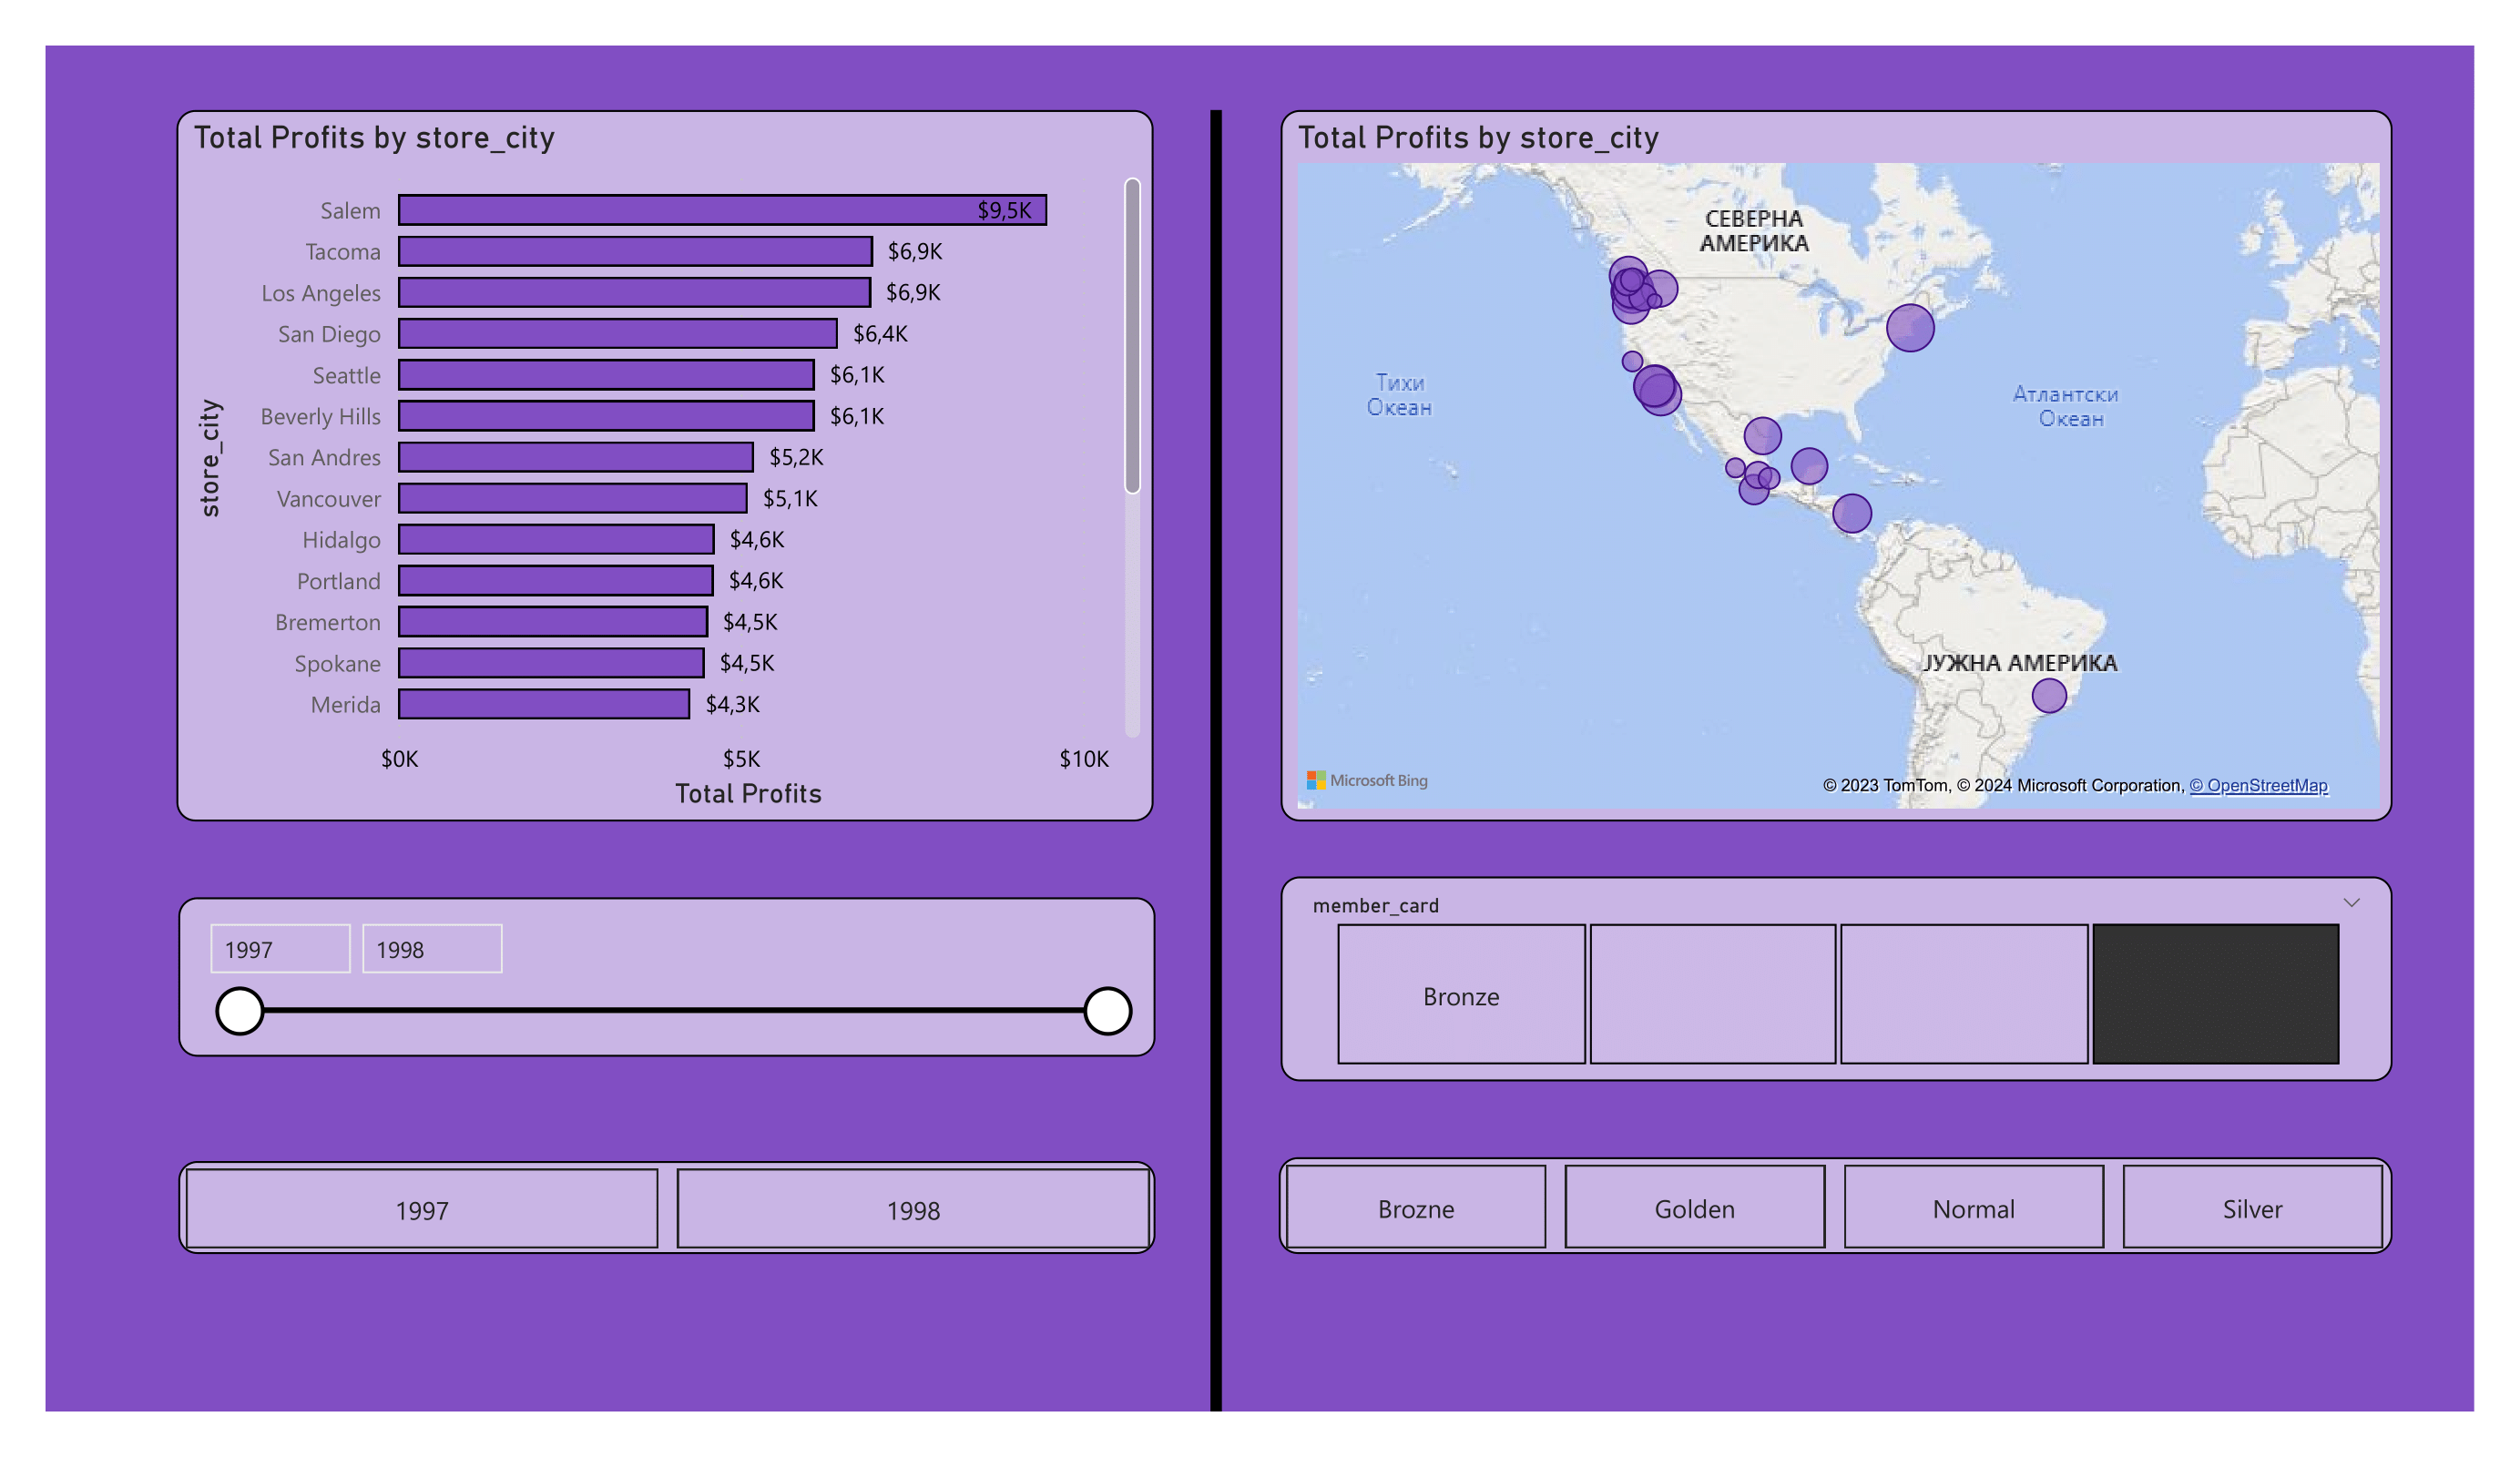

The page's visual inventory and layout, read from the dashboard file:
{"tool":"powerbi","page":{"name":"Topline Performance 2","canvas":[1280,720],"ordinal":1},"visuals":[{"type":"clusteredBarChart","fields":{"Y":["KeyMeasures.Total Profits"],"Category":["Stores.store_city"]},"box":[68.6,33.6,515.2,375.1],"z":0},{"type":"map","fields":{"Category":["Stores.store_city"],"Size":["KeyMeasures.Total Profits"]},"box":[651.1,33.9,586,375],"z":1000},{"type":"slicer","fields":{"Values":["Calendar.Year"]},"box":[70.1,449.3,515,84.1],"z":2000},{"type":"slicer","fields":{"Values":["Customers.member_card"]},"box":[651.1,437.5,586,108.1],"z":3000},{"type":"bookmarkNavigator","box":[69.6,587.8,515.3,48.7],"z":4000},{"type":"bookmarkNavigator","box":[650.4,586.4,586.4,50.1],"z":5000},{"type":"shape","box":[608.8,34.2,16.6,685.8],"z":6000}]}

Visuals, with their boxes on the page's 1280x720 design canvas (x1, y1, x2, y2). These are canvas units, not pixel positions in the 2520x1457 screenshot, which may show the page scaled, cropped or inside an application window:
clusteredBarChart - KeyMeasures.Total Profits x Stores.store_city: x1=69 y1=34 x2=584 y2=409
map - Stores.store_city x KeyMeasures.Total Profits: x1=651 y1=34 x2=1237 y2=409
slicer - Calendar.Year: x1=70 y1=449 x2=585 y2=533
slicer - Customers.member_card: x1=651 y1=438 x2=1237 y2=546
bookmarkNavigator: x1=70 y1=588 x2=585 y2=636
bookmarkNavigator: x1=650 y1=586 x2=1237 y2=636
shape: x1=609 y1=34 x2=625 y2=720
